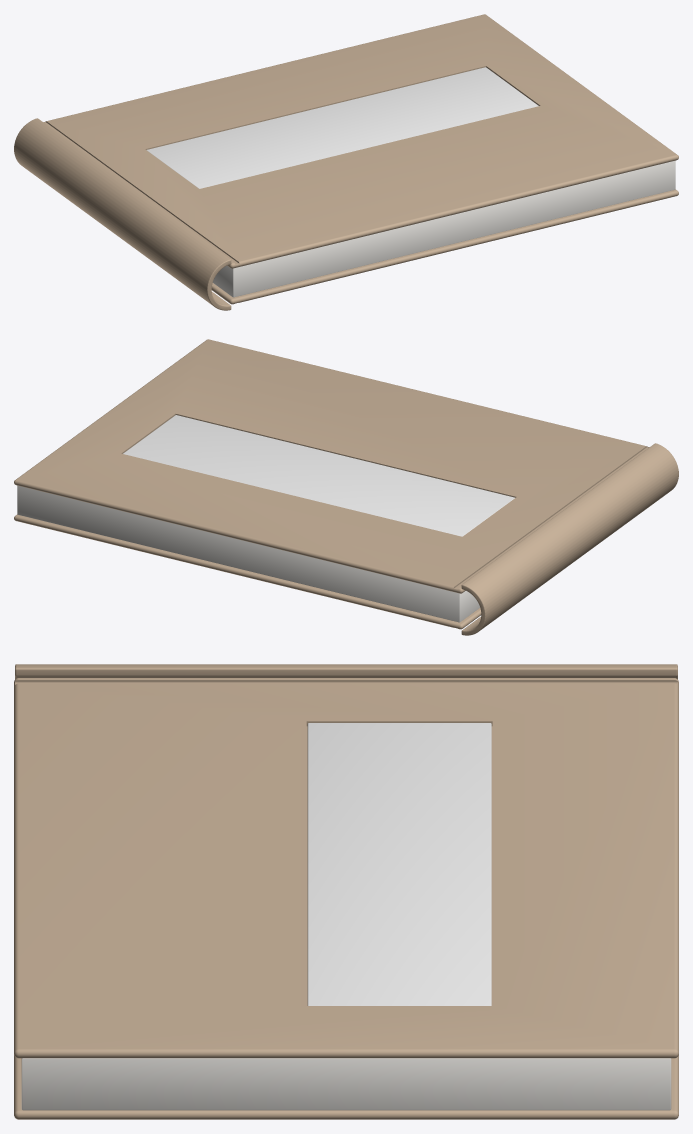
Rendered from photo-panoramic--landscape.glb.
3 views of the same model, one above another, from view 1: azimuth 30°, elevation 25°; view 2: azimuth 150°, elevation 25°; view 3: azimuth 270°, elevation 25° (orthographic). The views are drawn at different scales.
Parts seen in each view (by area): view 1: CoverFront, Photo, Pages, Spine, CoverBack; view 2: CoverFront, Photo, Pages, Spine, CoverBack; view 3: CoverFront, Photo, Pages, Spine, CoverBack.
Boxes of the visible parts, left/top/right/bottom form: CoverFront: left=43, top=14, right=678, bottom=268; Photo: left=146, top=67, right=538, bottom=188; Pages: left=213, top=160, right=675, bottom=297; Spine: left=14, top=118, right=231, bottom=310; CoverBack: left=211, top=189, right=678, bottom=304; CoverFront: left=14, top=339, right=649, bottom=593; Photo: left=123, top=415, right=514, bottom=536; Pages: left=17, top=485, right=479, bottom=622; Spine: left=461, top=443, right=678, bottom=635; CoverBack: left=14, top=514, right=481, bottom=629; CoverFront: left=14, top=678, right=678, bottom=1058; Photo: left=307, top=723, right=491, bottom=1005; Pages: left=21, top=1058, right=671, bottom=1110; Spine: left=15, top=664, right=677, bottom=679; CoverBack: left=14, top=1055, right=678, bottom=1119.
Size of the model in its own units: 0.4208 by 0.043 by 0.3.
